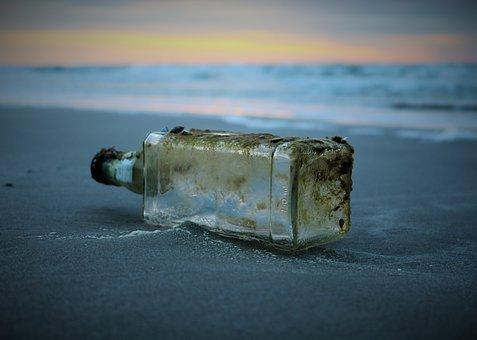Glass: (86, 119, 356, 250)
